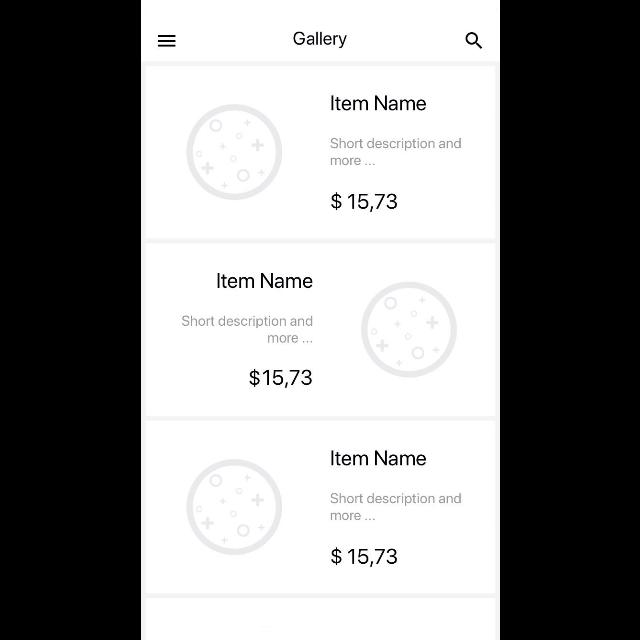icon: (466, 32, 482, 49), (157, 35, 175, 47)
image: (185, 104, 282, 200), (185, 459, 282, 555), (361, 282, 457, 378)
panel: (144, 243, 496, 417), (144, 420, 496, 594), (145, 66, 495, 240)
text: (181, 316, 313, 344), (331, 493, 462, 521), (330, 138, 460, 166), (332, 450, 426, 466), (330, 96, 426, 110), (216, 274, 312, 288), (331, 192, 397, 212), (331, 547, 397, 567), (248, 368, 312, 388), (293, 32, 347, 48)
